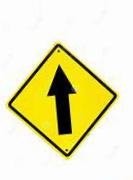forward: (7, 40, 120, 162)
